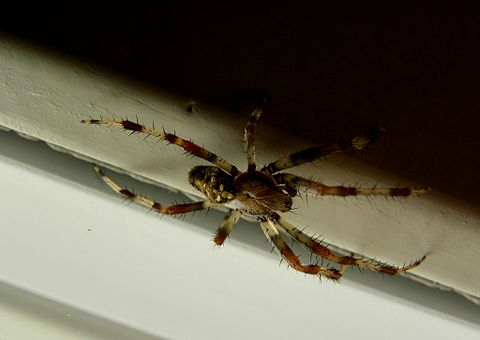spider: (73, 71, 444, 304)
